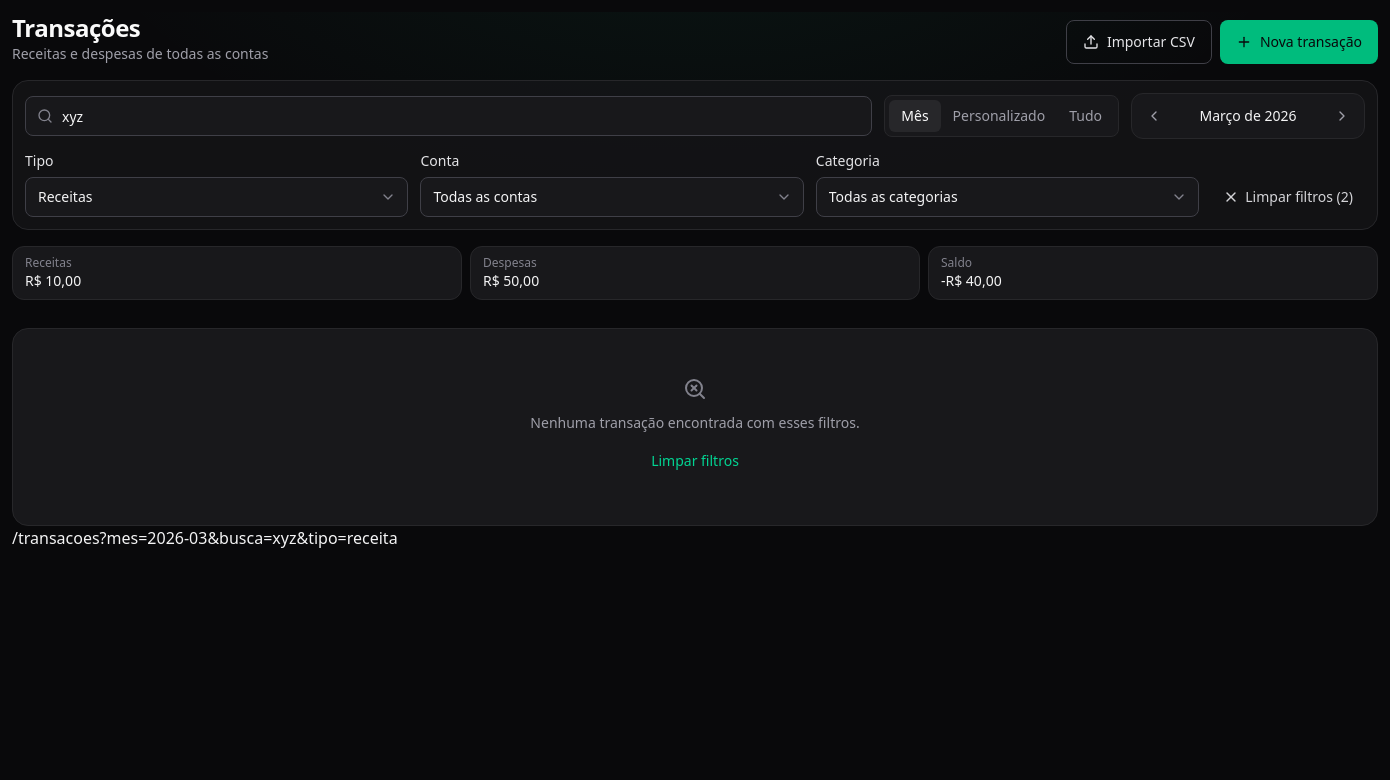
TransactionsPage › offers to clear filters when nothing matches
expect the text "Nenhuma transação encontrada com esses filtros." is shown: met, box x1=530 y1=413 x2=860 y2=433
Click the button "Limpar filtros".
click(695, 461)  # box x1=639 y1=445 x2=751 y2=477
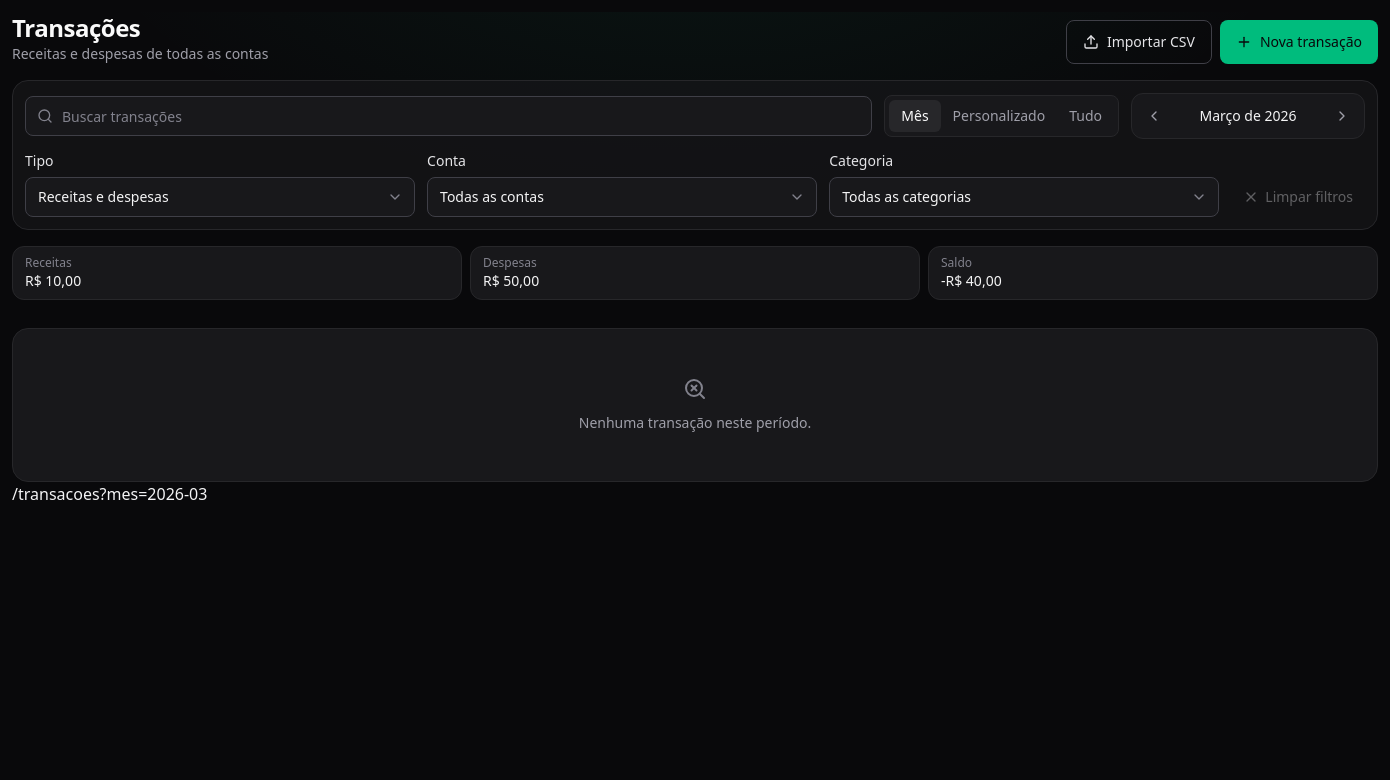
expect the text with test id "location" reads "/transacoes?mes=2026-03": met, box x1=12 y1=483 x2=207 y2=505
expect the search field labelled "Buscar transações" is empty: met, box x1=25 y1=96 x2=872 y2=136
